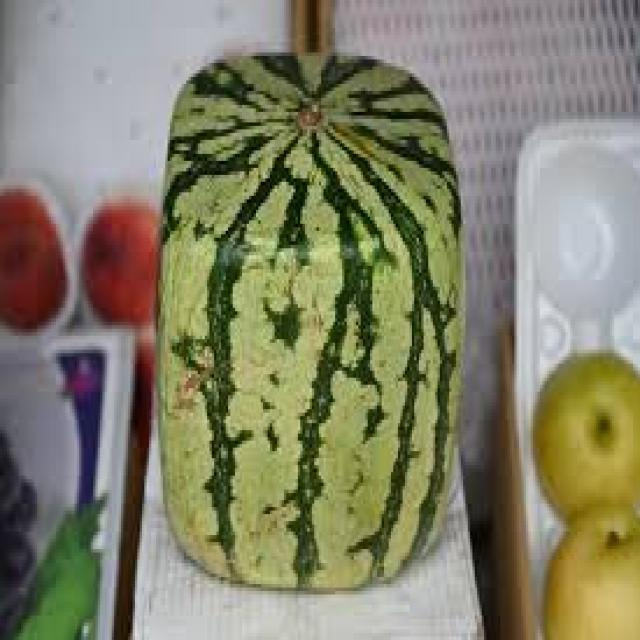watermelon: (154, 49, 466, 591)
